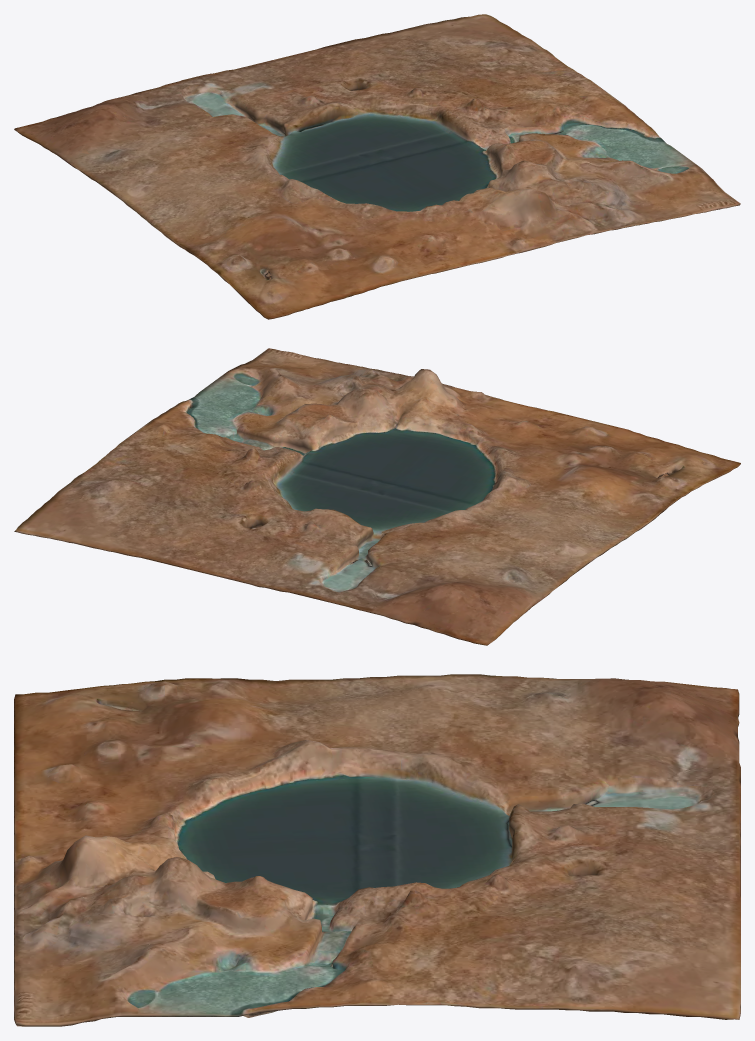
The model's file is movil.glb.
The picture shows the model from 3 angles, top to bottom: view 1: azimuth 30°, elevation 25°; view 2: azimuth 150°, elevation 25°; view 3: azimuth 270°, elevation 25°; orthographic projection. The views are drawn at different scales.
Visible parts, largest first — view 1: tripo_node_d2c1b41f-0966-4044-846f-c9e33a6ac673; view 2: tripo_node_d2c1b41f-0966-4044-846f-c9e33a6ac673; view 3: tripo_node_d2c1b41f-0966-4044-846f-c9e33a6ac673.
Boxes of the visible parts, bbox=[...] form: tripo_node_d2c1b41f-0966-4044-846f-c9e33a6ac673: bbox=[14, 14, 740, 319]; tripo_node_d2c1b41f-0966-4044-846f-c9e33a6ac673: bbox=[14, 348, 740, 645]; tripo_node_d2c1b41f-0966-4044-846f-c9e33a6ac673: bbox=[14, 674, 740, 1026].
Bounding box in the file's own units: 0.9784 × 0.0861 × 0.9133.
1 material, 1 textured.
